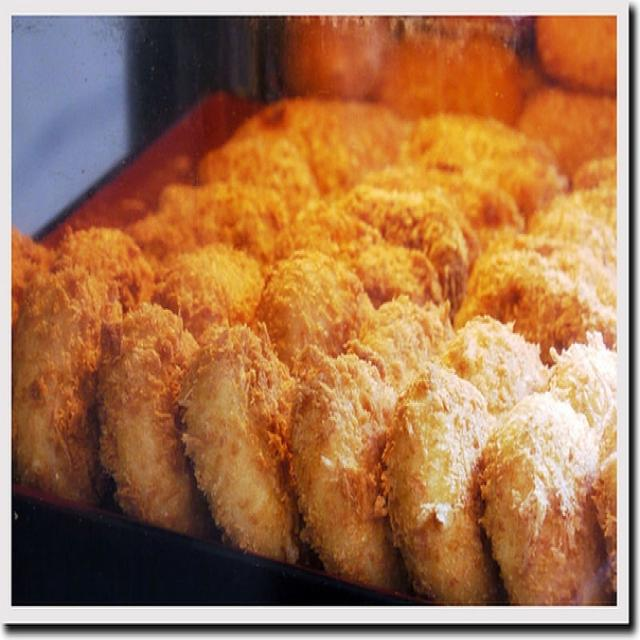炸货点心: (16, 27, 622, 604)
